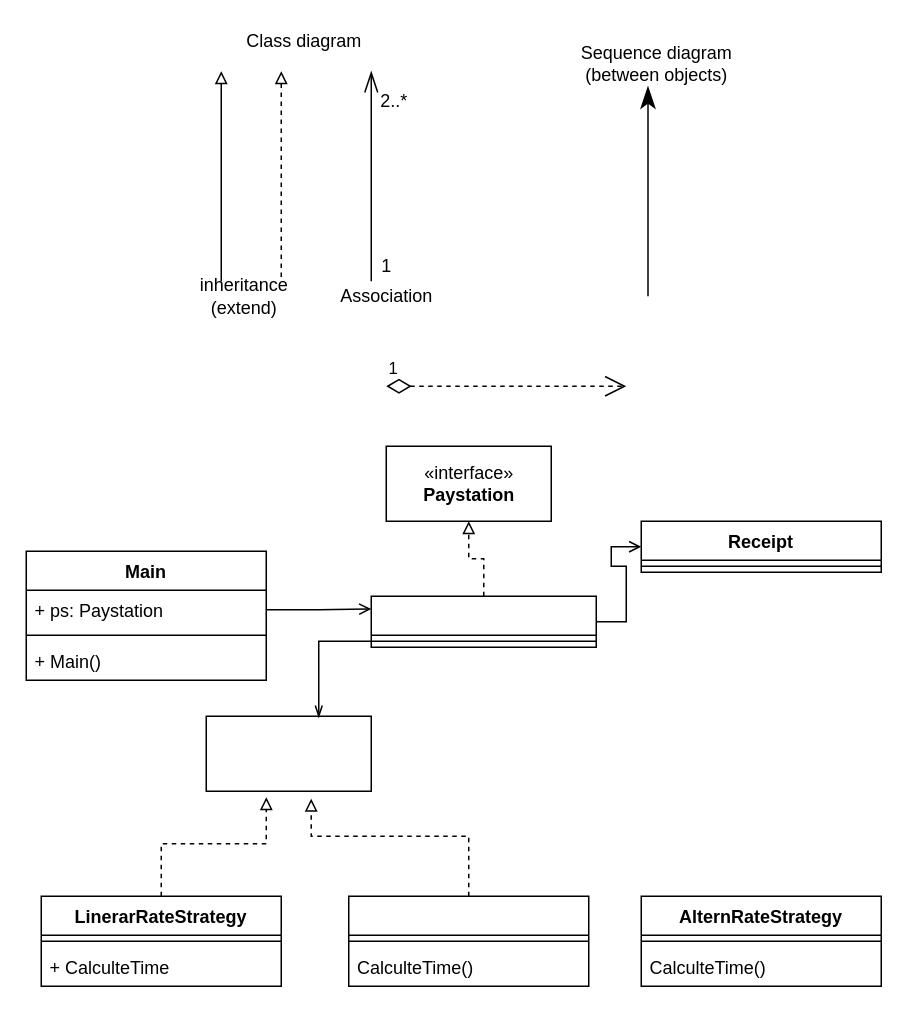
Image size: 908x1016. Some labels were removed from this diagram. The shapes that lost their labels are listed below. From the top down, each one's box as (x1, y1, x2, y2) in pixels, then its label:
(370, 595, 596, 647): PayStationImpl
(205, 715, 371, 791): «interface» RateStrategy
(347, 895, 589, 986): ProgressiveRateStrategy
